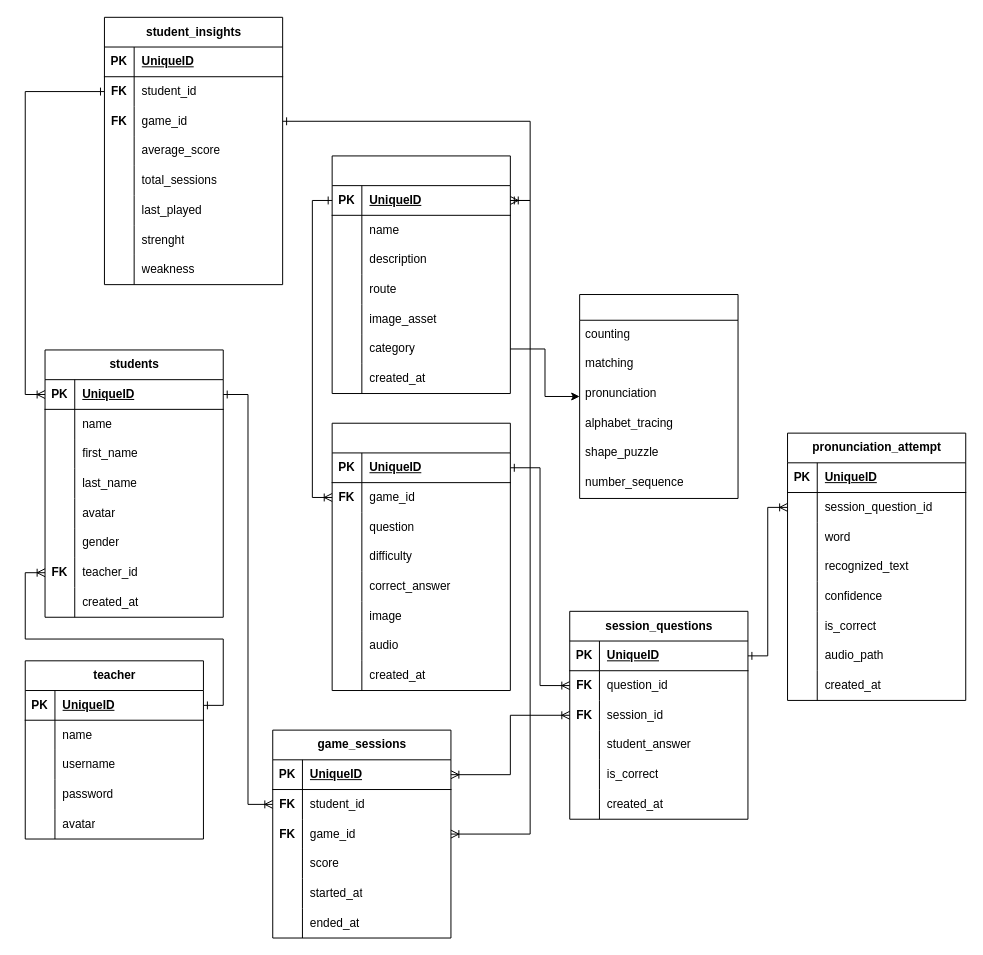
The diagram is 983 pixels wide and 955 high, and some of its shapes have lost their labels. Each missing label, with the box of its shape:
game_questions: (331, 422, 510, 691)
game_type: (579, 294, 738, 498)
games: (331, 155, 510, 394)
